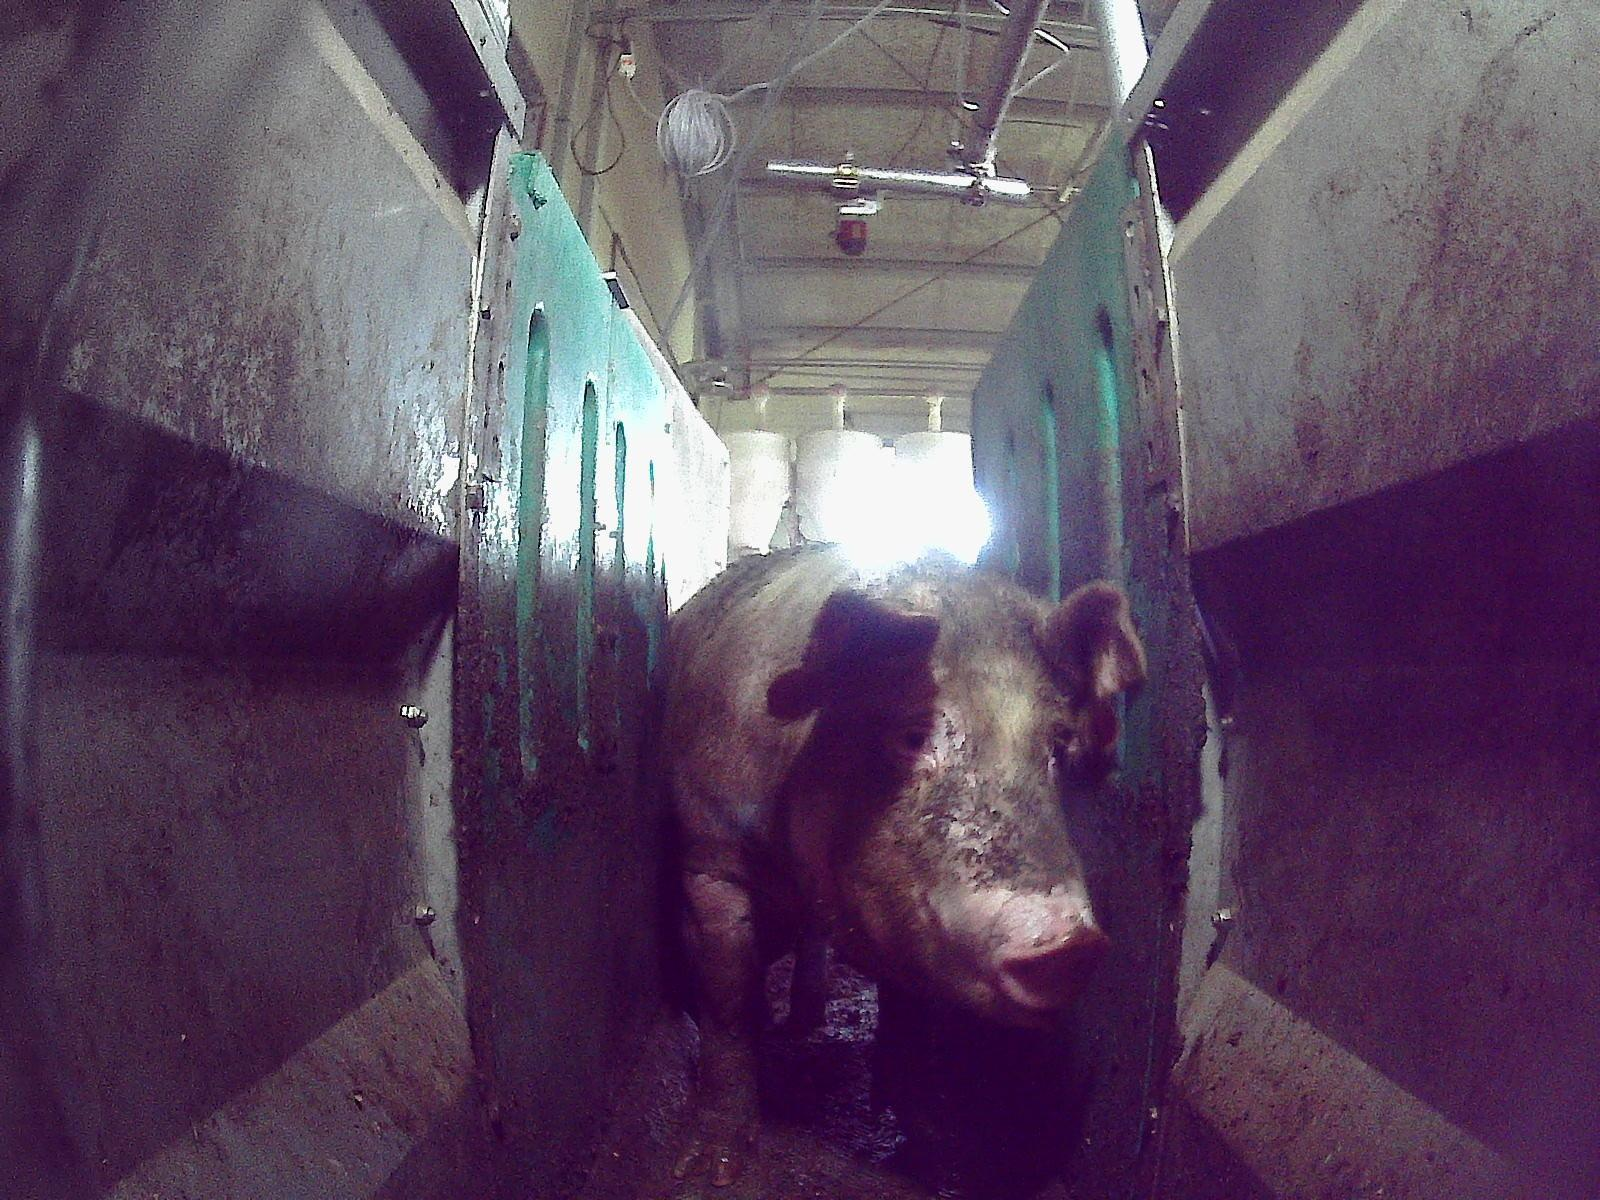Face: (780, 581, 1109, 1033)
